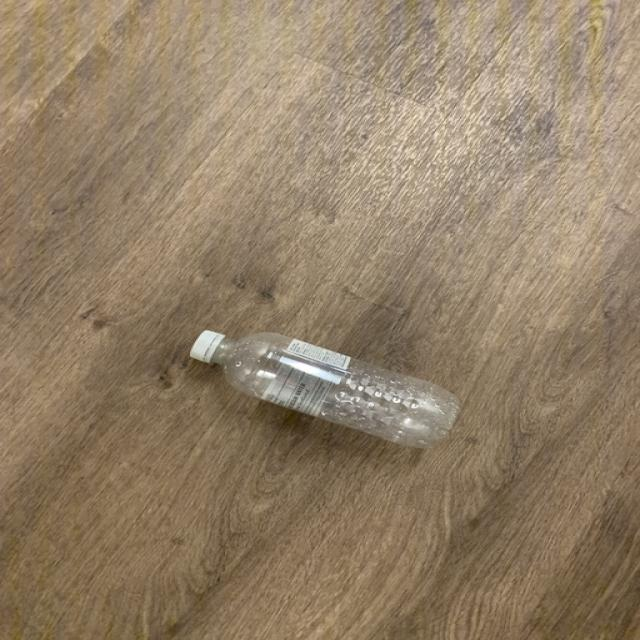PET: (183, 326, 467, 454)
